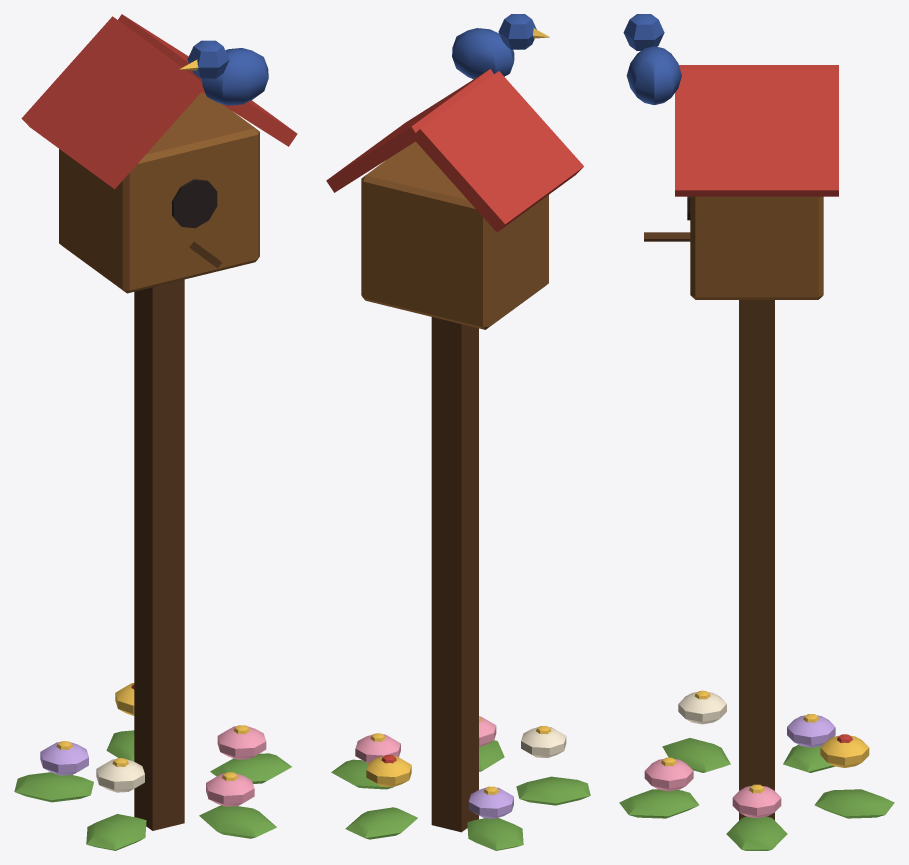
Rendered from PR_Decor_KusEvi.fbx.
3 renders of one model, left to right at view 1: azimuth 30°, elevation 25°; view 2: azimuth 150°, elevation 25°; view 3: azimuth 270°, elevation 25°, orthographic. The views are drawn at different scales.
Visible parts, largest first — view 1: PR_Decor_KusEvi; view 2: PR_Decor_KusEvi; view 3: PR_Decor_KusEvi.
Boxes of the visible parts, bbox=[...] form: PR_Decor_KusEvi: bbox=[14, 14, 297, 850]; PR_Decor_KusEvi: bbox=[326, 14, 590, 850]; PR_Decor_KusEvi: bbox=[619, 14, 894, 850].
Bounding box in the file's own units: 0.511 × 1.72 × 0.5373.
